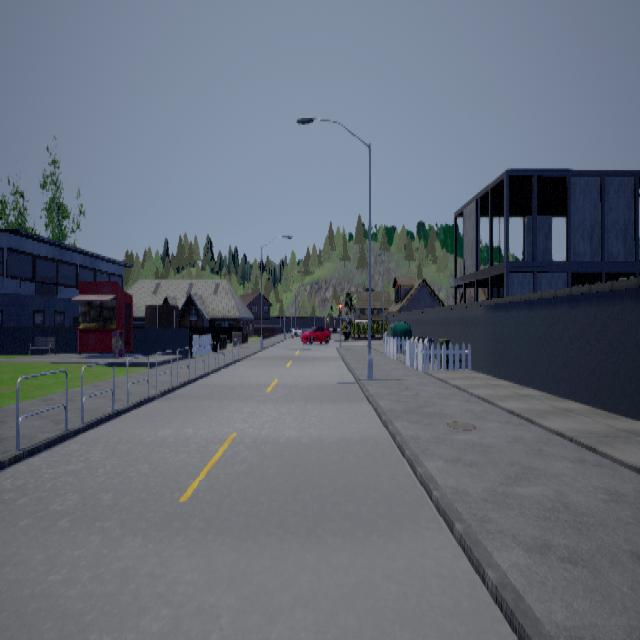vehicle: (290, 325, 330, 344)
